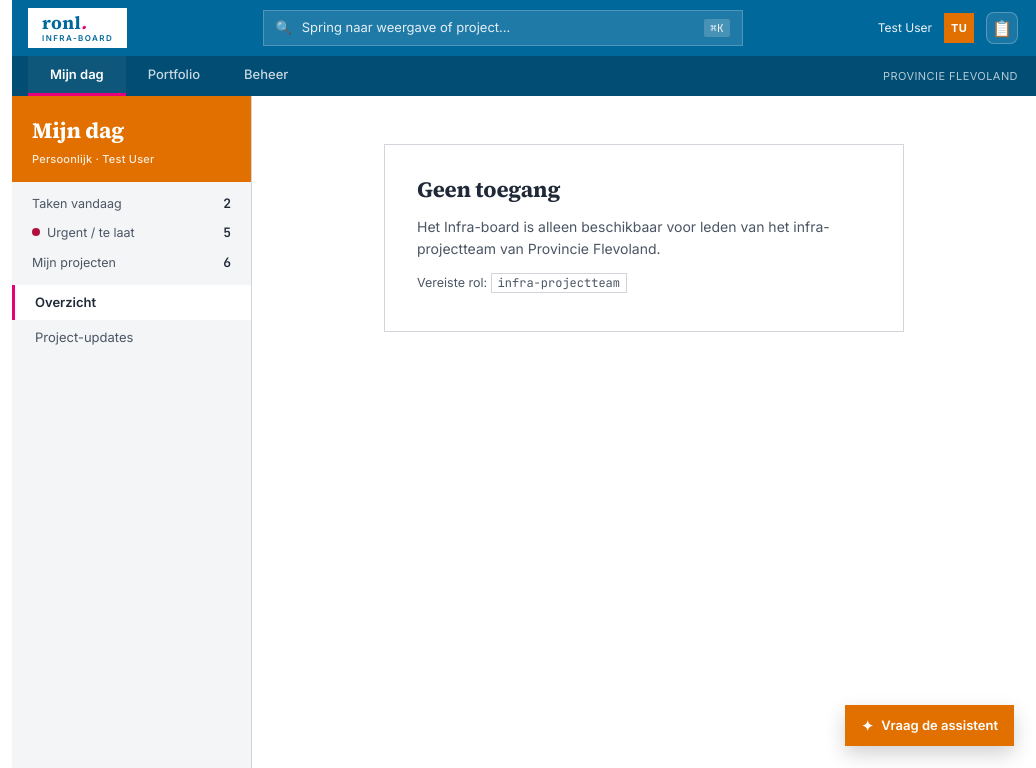
Test: InfraBoardDashboard › hides Beheer phase items (but not Faseladder/Archief) from an authenticated user without the gate role
Click the button "Beheer": click(266, 76) [222, 56, 310, 96]
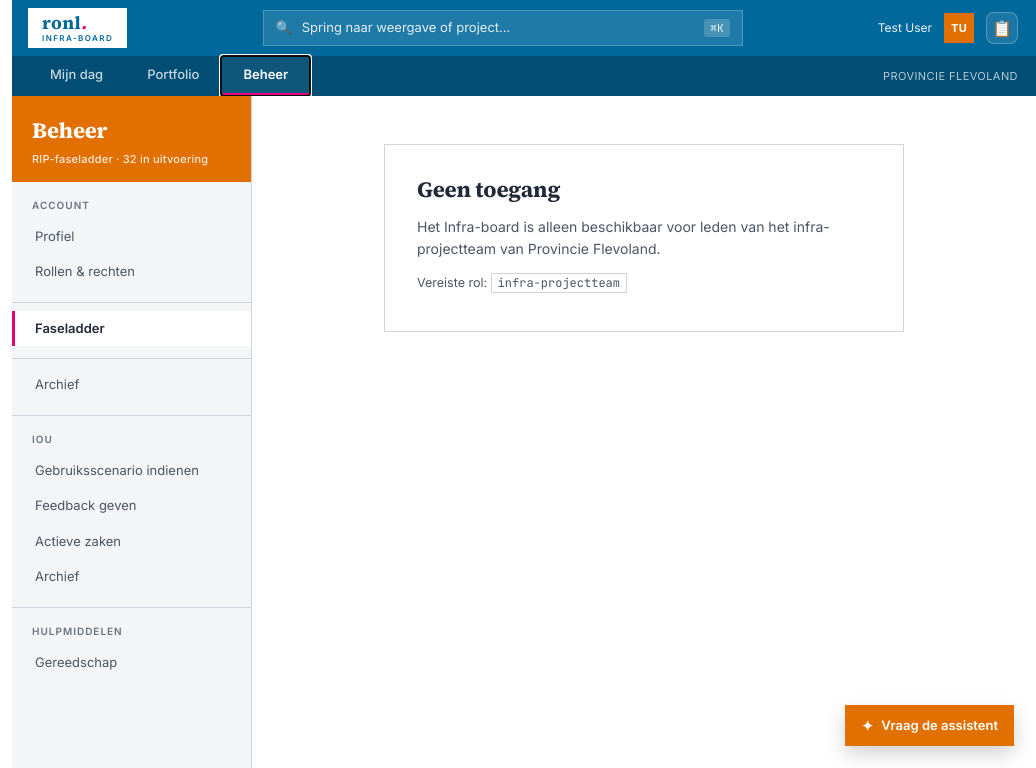
Now the button "Faseladder" is shown, box [12, 310, 251, 346]
Now the number of buttons "Archief" is 2, box [12, 367, 251, 402]; [12, 559, 251, 594]
